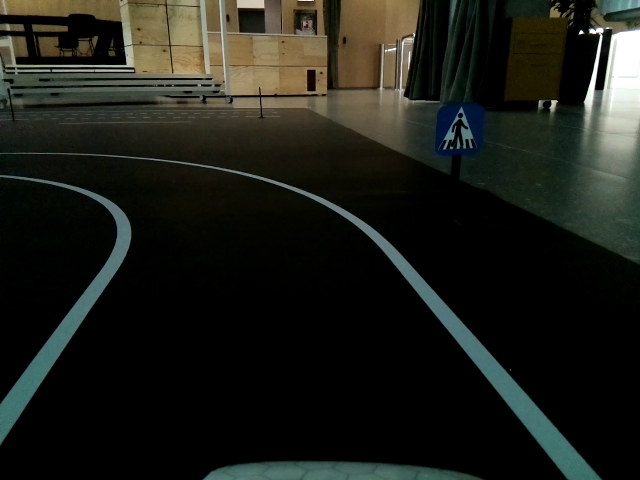pedestrians: (433, 108, 483, 155)
